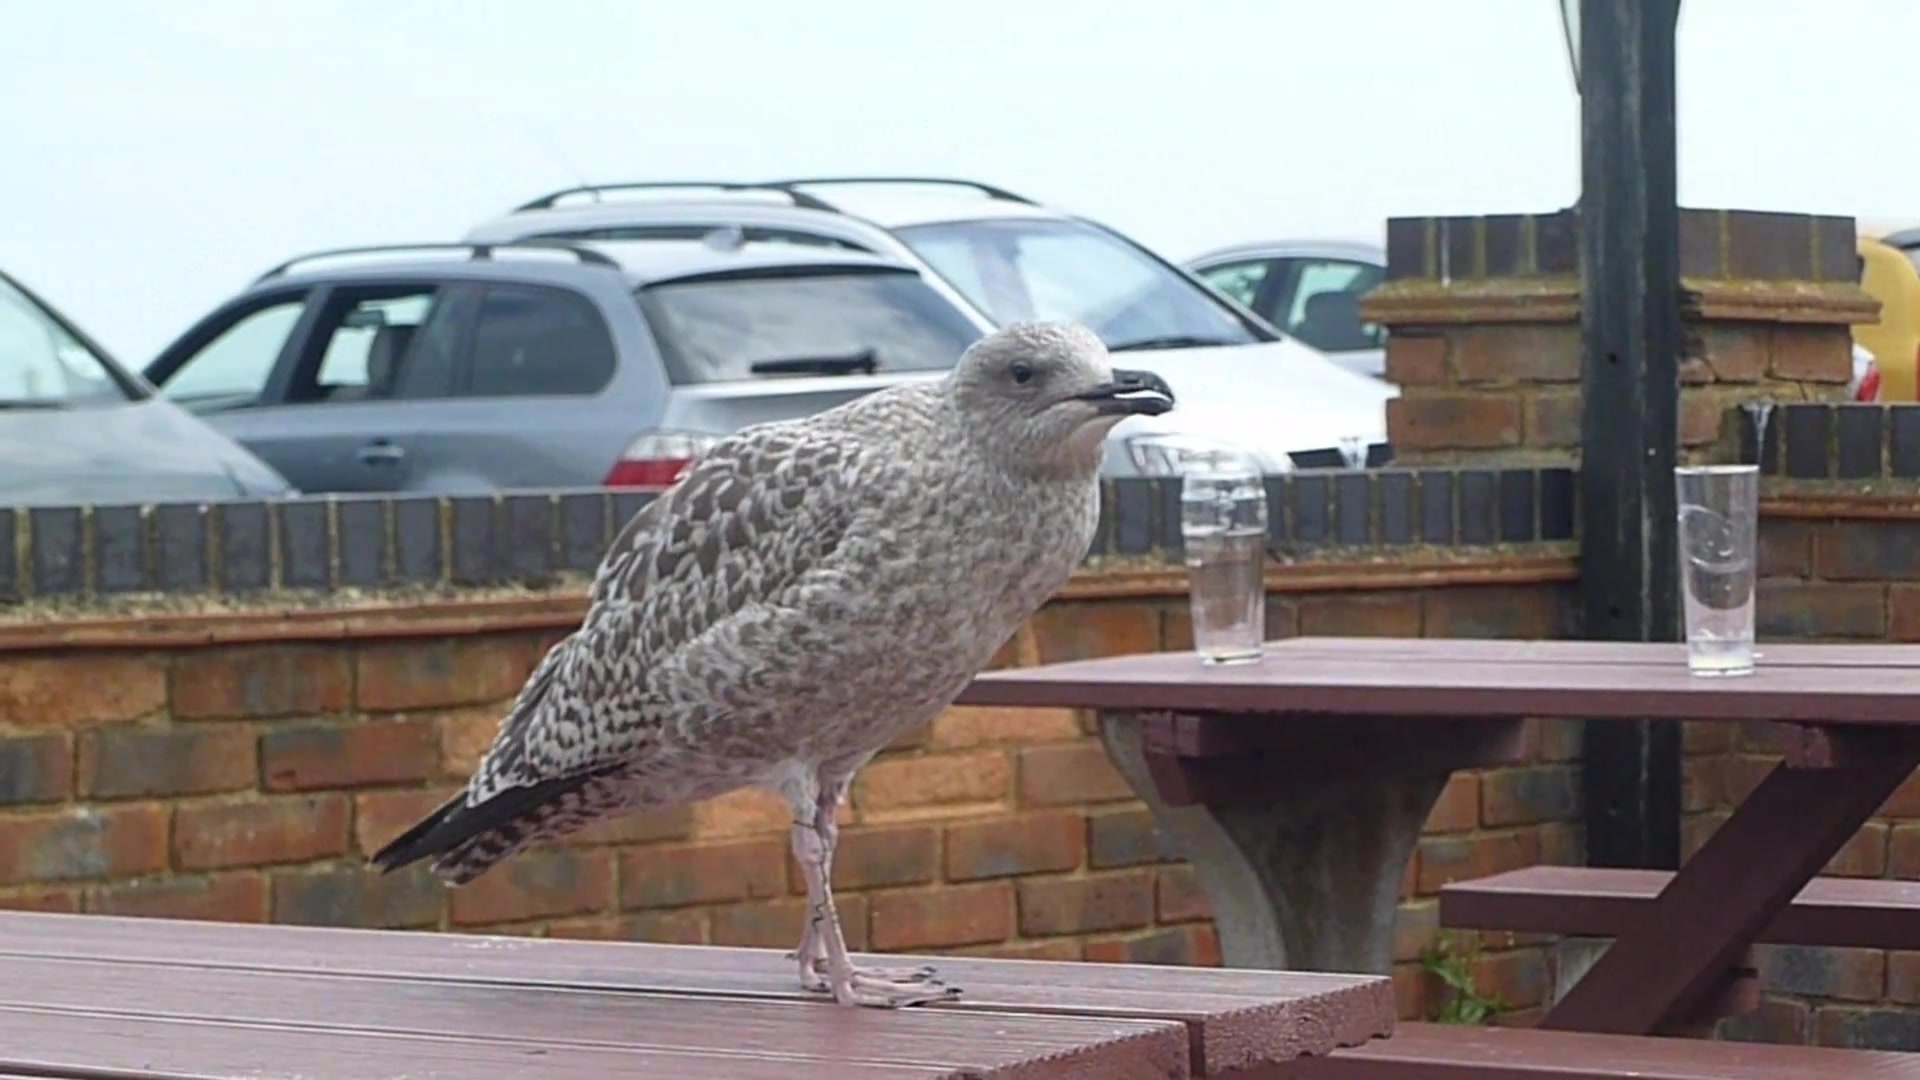bird: (369, 319, 1180, 1011)
